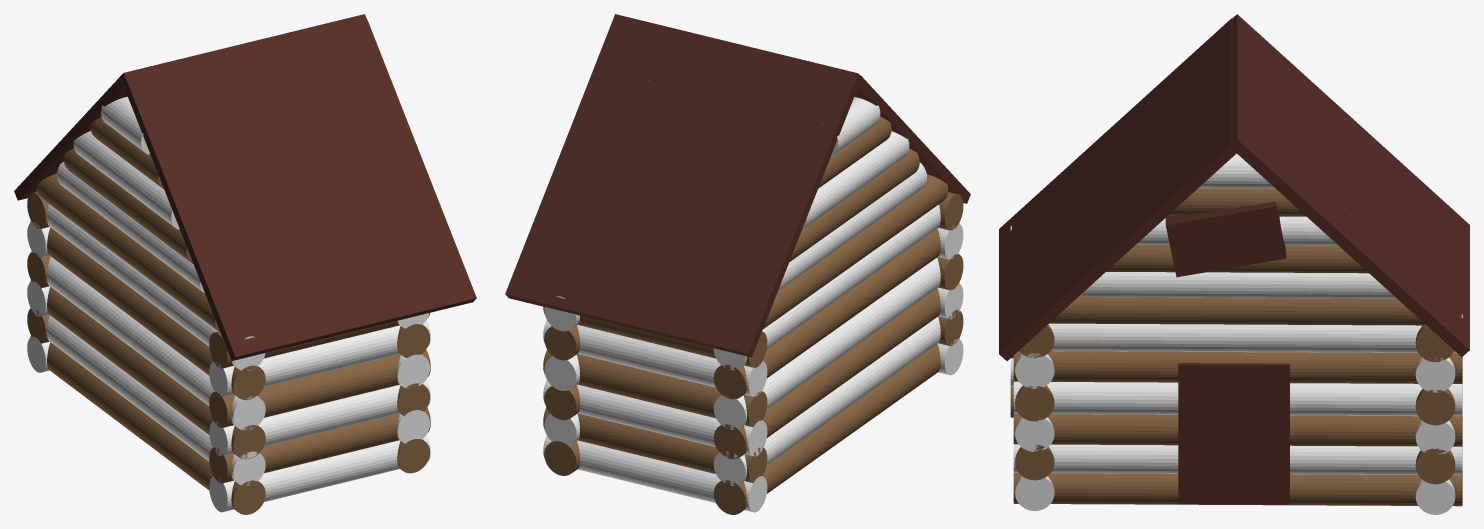
The model's file is ShopCabin.fbx.
The picture shows the model from 3 angles, left to right: view 1: azimuth 30°, elevation 25°; view 2: azimuth 150°, elevation 25°; view 3: azimuth 270°, elevation 25°; orthographic projection. The views are drawn at different scales.
Visible parts, largest first — view 1: Cube.006; view 2: Cube.006; view 3: Cube.006.
Part boxes in pixels (left/top/right/bottom): Cube.006: left=14, top=14, right=476, bottom=514; Cube.006: left=505, top=14, right=970, bottom=514; Cube.006: left=999, top=14, right=1469, bottom=514.
Bounding box in the file's own units: 1514 × 2187 × 2382.
